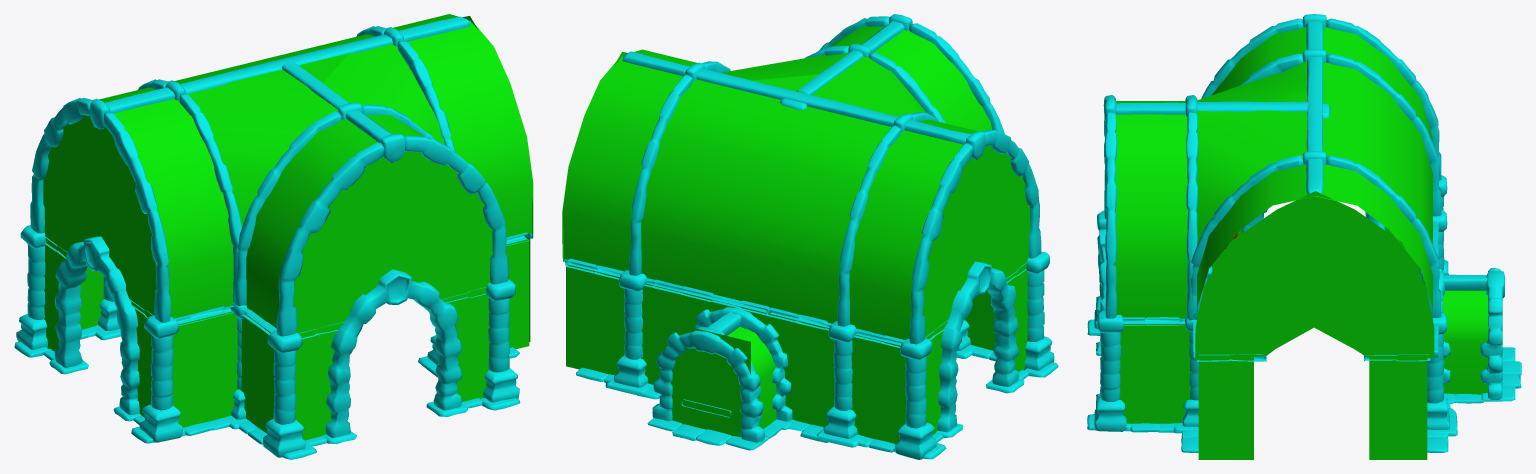
Rendered from Hallway_TSection_1.fbx.
3 renders of one model, left to right at view 1: azimuth 30°, elevation 25°; view 2: azimuth 150°, elevation 25°; view 3: azimuth 270°, elevation 25°, orthographic. The views are drawn at different scales.
Parts seen in each view (by area): view 1: Room_T_1:TSection1FinishedRoomspolySurface363, Room_T_1:TSection1FinishedRoomspolySurface360; view 2: Room_T_1:TSection1FinishedRoomspolySurface363, Room_T_1:TSection1FinishedRoomspolySurface360; view 3: Room_T_1:TSection1FinishedRoomspolySurface363, Room_T_1:TSection1FinishedRoomspolySurface360.
Part boxes in pixels (x1=…): Room_T_1:TSection1FinishedRoomspolySurface363: x1=43, y1=14, x2=533, y2=440; Room_T_1:TSection1FinishedRoomspolySurface360: x1=14, y1=16, x2=533, y2=459; Room_T_1:TSection1FinishedRoomspolySurface363: x1=562, y1=26, x2=1030, y2=443; Room_T_1:TSection1FinishedRoomspolySurface360: x1=564, y1=14, x2=1058, y2=459; Room_T_1:TSection1FinishedRoomspolySurface363: x1=1115, y1=27, x2=1488, y2=459; Room_T_1:TSection1FinishedRoomspolySurface360: x1=1087, y1=14, x2=1521, y2=452.
Size of the model in its own units: 1274 by 1276 by 897.
